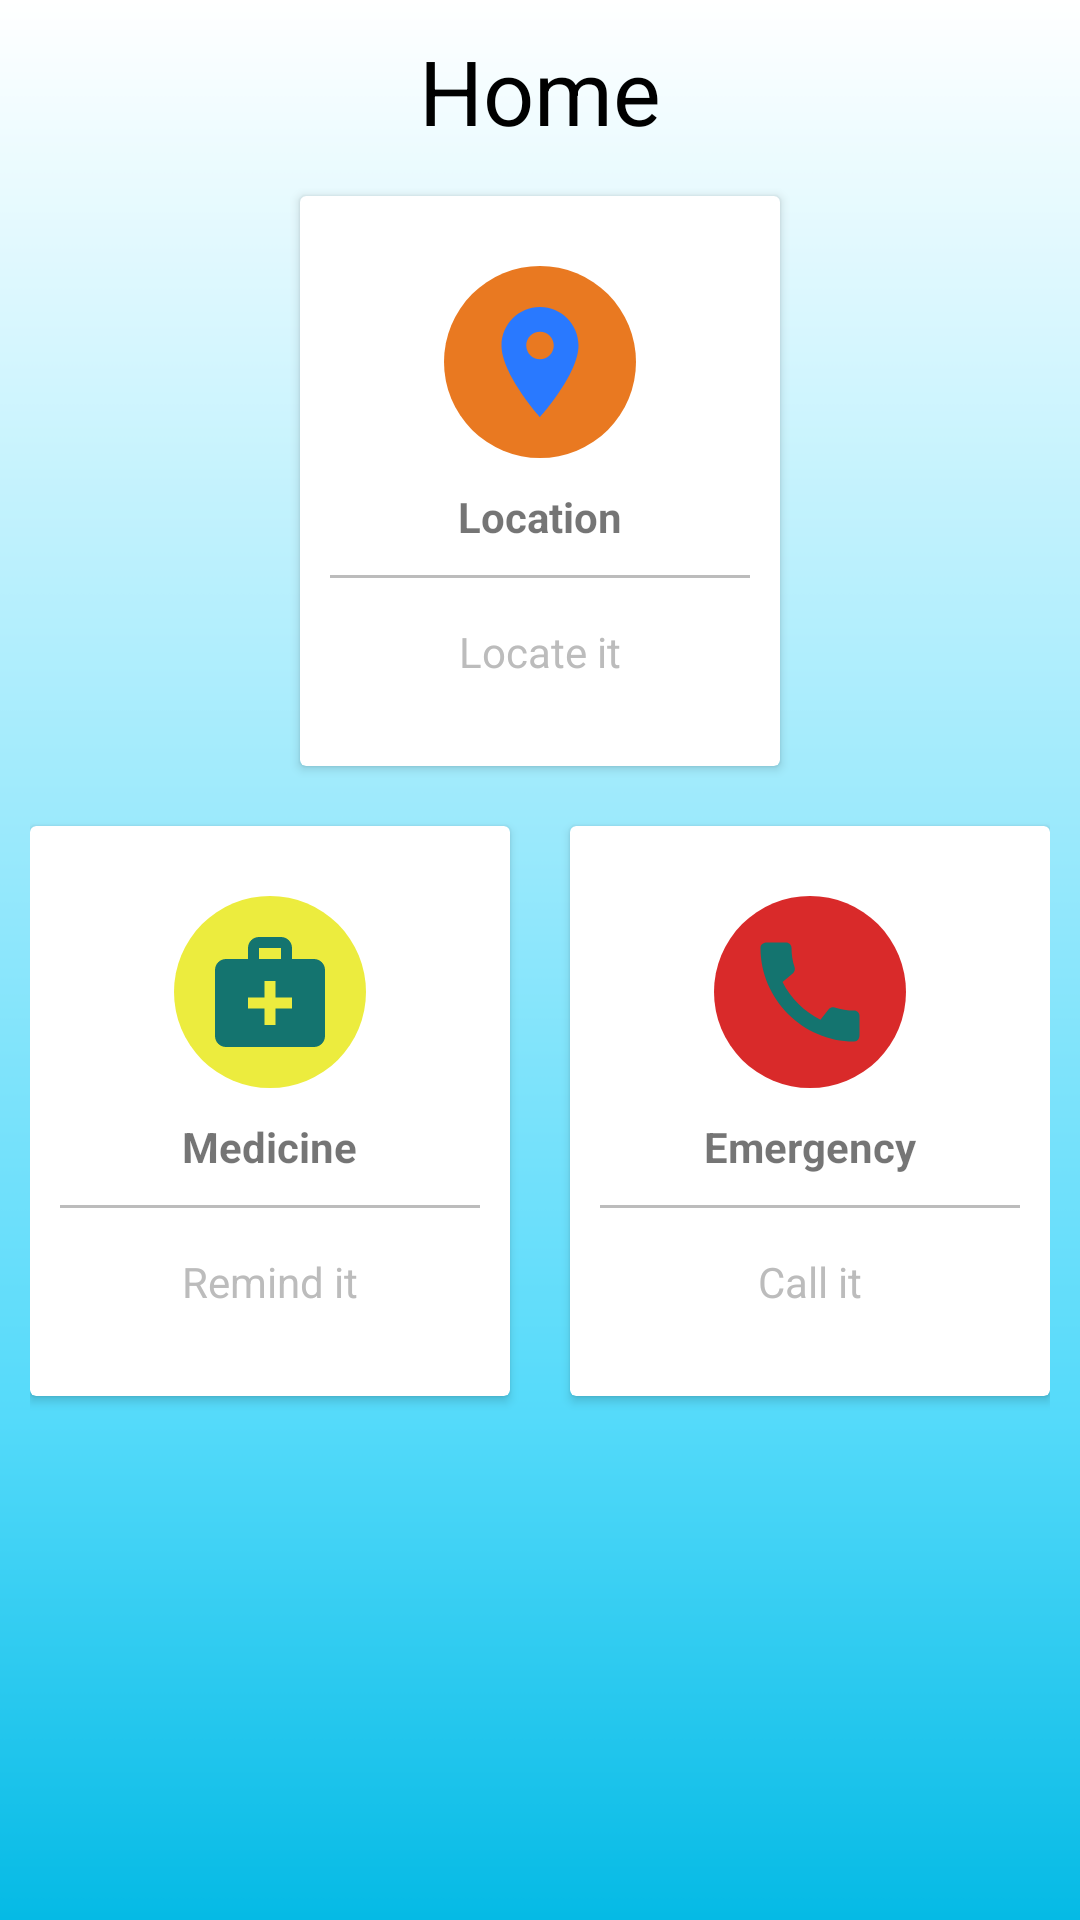

Locate icon controls on the screen. Image size 1080px×1920px, boxes as rect(x1, y1, x2, y2).
medical services: rect(174, 896, 366, 1088)
